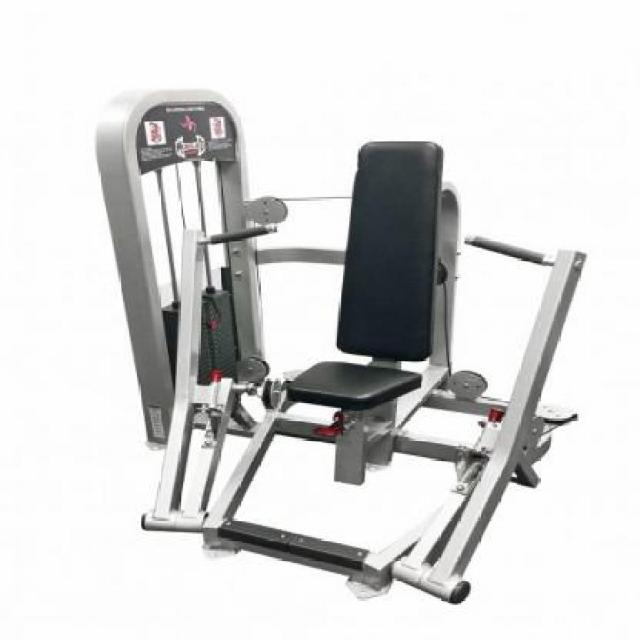Chest Press machine: (86, 81, 606, 614)
